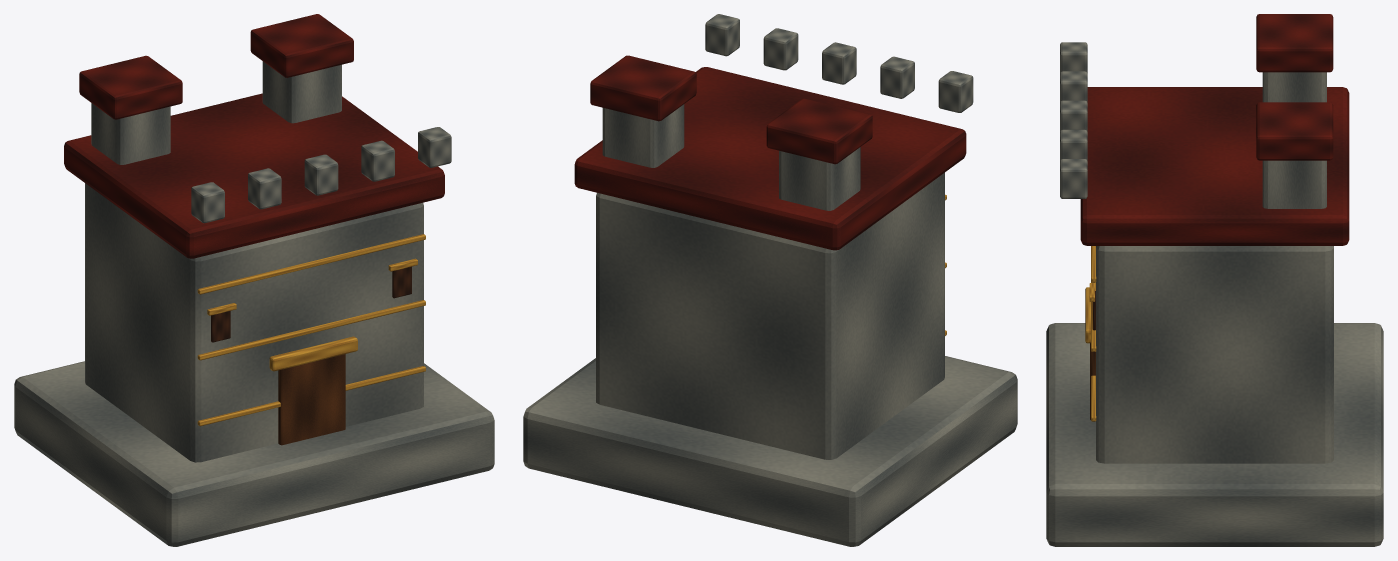
The model's file is keep.glb.
3 renders of one model, left to right at view 1: azimuth 30°, elevation 25°; view 2: azimuth 150°, elevation 25°; view 3: azimuth 270°, elevation 25°, orthographic. The views are drawn at different scales.
Visible parts, largest first — view 1: Keep_Mesh; view 2: Keep_Mesh; view 3: Keep_Mesh.
Part boxes in pixels (x1=…): Keep_Mesh: x1=14, y1=14, x2=494, y2=546; Keep_Mesh: x1=523, y1=14, x2=1017, y2=546; Keep_Mesh: x1=1046, y1=14, x2=1383, y2=546.
Bounding box in the file's own units: 2.6 × 2.81 × 2.2.
Materials: 5 (5 with a texture image).
